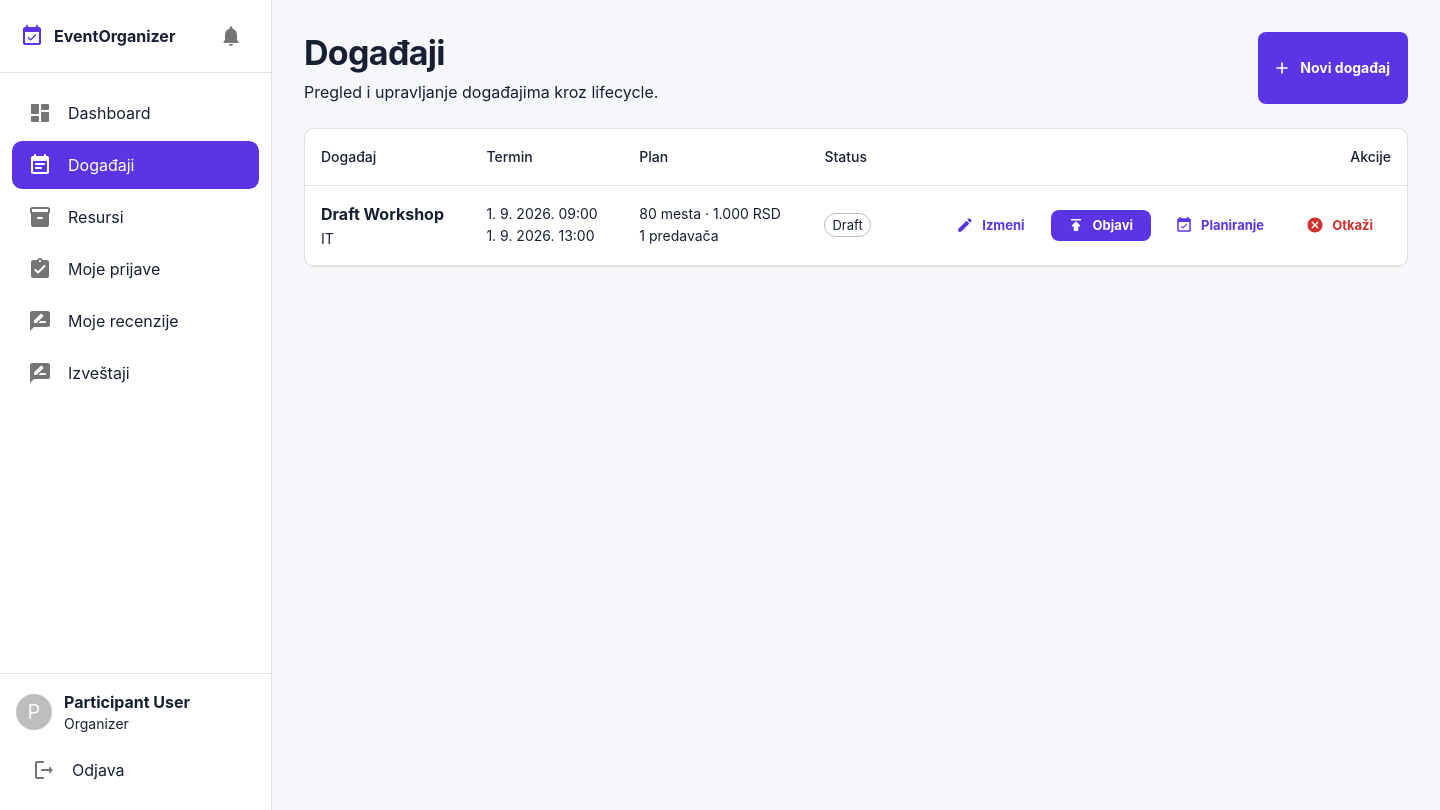
Scenario: App › shows backend conflict errors when publishing is blocked
The width and height of the screenshot is (1440, 810).
Expected: the text "Draft Workshop" is shown, [321,202,454,226]
Step 1. Click the button "Objavi" → click(1101, 225), box [1051,210,1151,241]
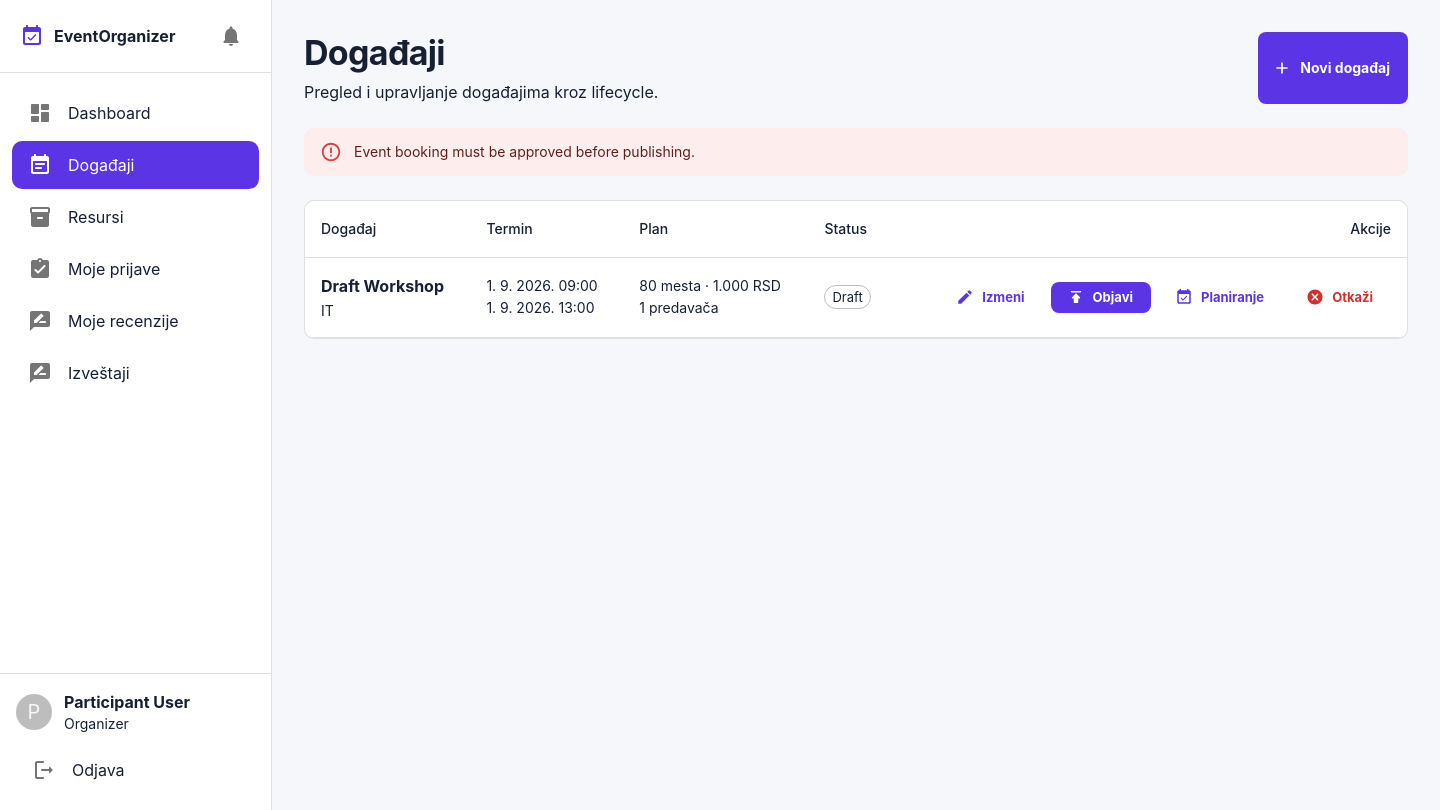
Expected: the text "Event booking must be approved before publishing." is shown, [354,143,695,160]
